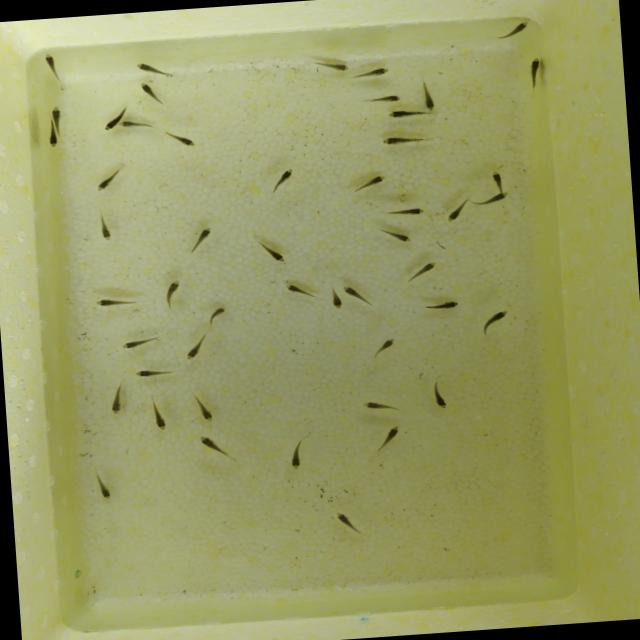fingerling: (194, 428, 238, 468), (78, 468, 125, 504), (516, 52, 550, 95), (110, 328, 166, 354), (488, 17, 536, 46), (330, 504, 366, 542), (86, 164, 126, 197), (82, 291, 142, 313), (352, 394, 407, 418), (182, 223, 220, 256), (186, 389, 219, 427), (278, 439, 316, 472), (130, 54, 178, 80), (362, 332, 402, 363), (158, 270, 187, 312), (402, 257, 442, 287), (472, 306, 514, 334), (252, 236, 290, 266), (100, 384, 132, 418), (90, 210, 120, 246), (348, 171, 394, 194), (274, 279, 319, 302), (266, 164, 300, 194), (423, 380, 454, 412), (441, 194, 474, 224), (361, 88, 410, 108), (376, 227, 422, 248), (137, 79, 168, 110), (372, 422, 404, 452), (342, 280, 374, 310), (374, 131, 429, 148), (164, 127, 202, 151), (415, 80, 443, 112), (377, 203, 429, 220), (146, 398, 172, 432), (307, 56, 356, 74), (126, 364, 174, 381), (423, 295, 462, 315), (474, 190, 512, 210), (180, 335, 208, 362), (359, 62, 396, 82), (200, 304, 230, 328), (483, 166, 512, 190), (42, 50, 62, 84), (118, 117, 154, 134), (382, 106, 419, 122), (326, 286, 344, 314), (46, 118, 58, 152), (46, 104, 65, 118), (103, 115, 118, 132)
